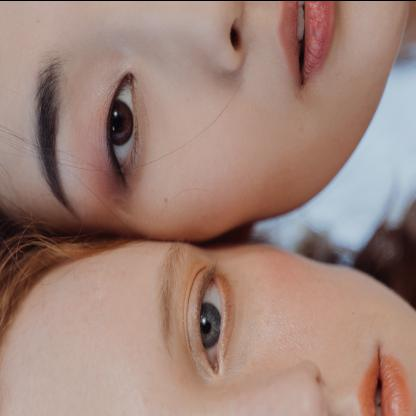Eye: (96, 60, 146, 194), (185, 256, 237, 382)
Mouth: (271, 0, 340, 80), (349, 349, 412, 415)
Nose: (122, 0, 252, 72), (230, 358, 332, 416)
